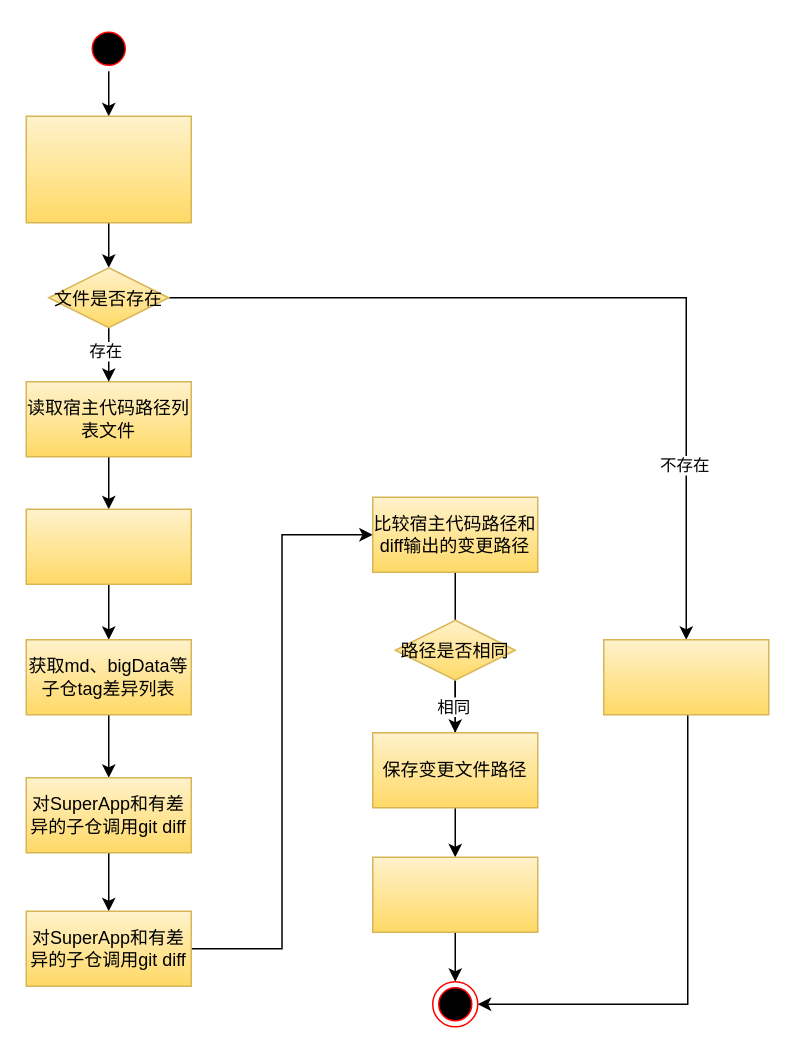
This 795x1053 diagram has some shape labels left out. Each missing label, with the centre of its shape:
"检查SuperApp根目录宿主代码路径列表文件是否存在" goes at [108,169].
"终端输出变更文件列表" goes at [454,894].
"终端输出错误提示" goes at [685,676].
"调用git diff submodule_config" goes at [108,546].
